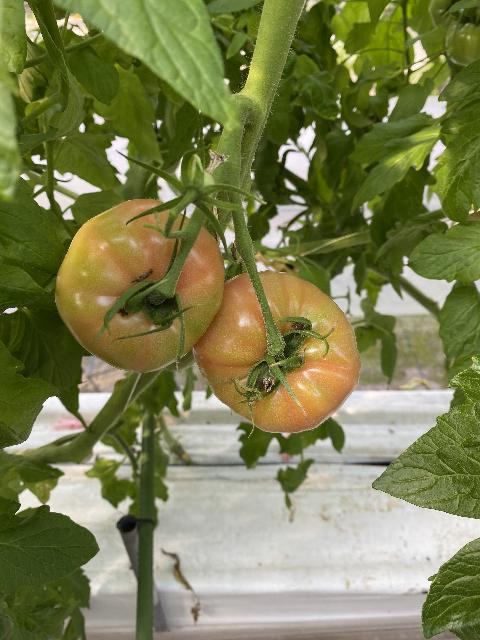b_half_ripened: (54, 199, 225, 373), (192, 271, 361, 433)
